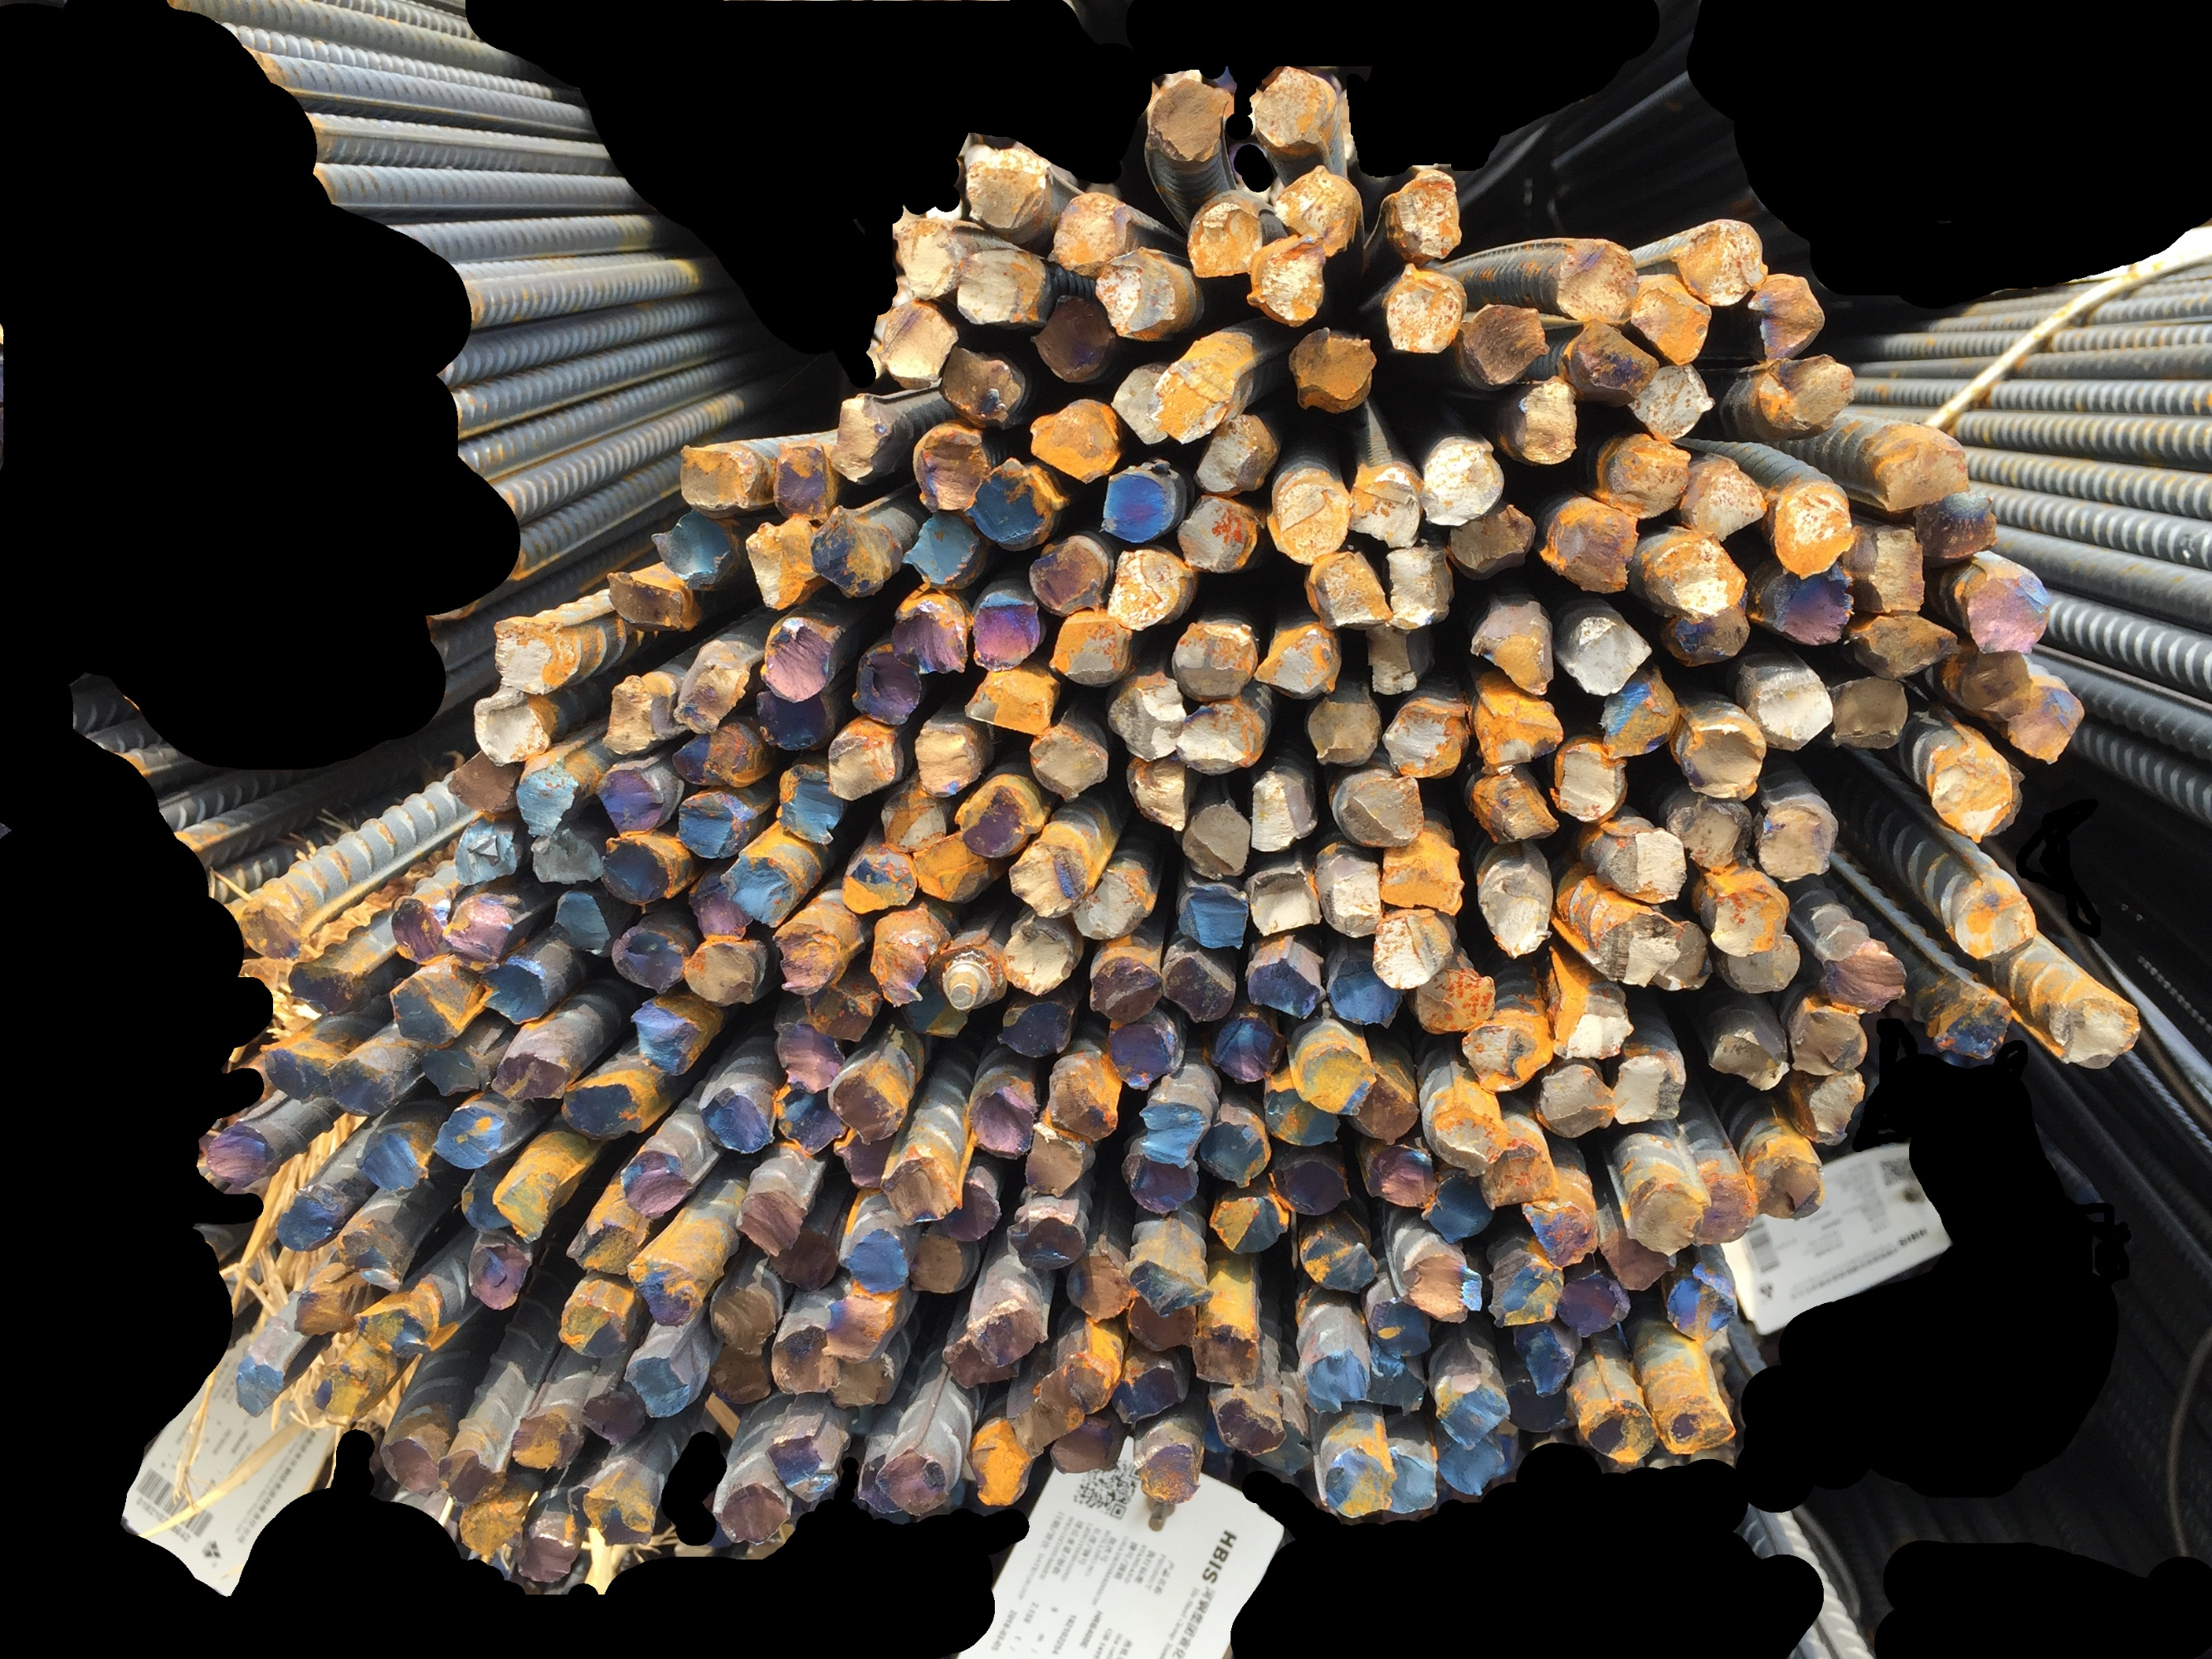rebar: (1747, 558, 1851, 652), (1942, 871, 2041, 967), (1910, 983, 2017, 1072), (1027, 396, 1123, 491), (2046, 981, 2142, 1077), (966, 458, 1063, 552), (1096, 246, 1189, 345), (1544, 230, 1640, 324), (1274, 162, 1367, 260), (1865, 429, 1971, 512), (1544, 498, 1640, 591), (1469, 599, 1560, 697), (1668, 214, 1768, 303), (1591, 432, 1693, 519), (1930, 741, 2013, 845), (1649, 533, 1747, 620), (1595, 662, 1680, 762), (1773, 477, 1855, 580), (1677, 713, 1769, 803), (1961, 561, 2052, 653), (952, 246, 1051, 329), (1379, 692, 1471, 781), (1469, 678, 1562, 767), (811, 502, 898, 596), (1560, 610, 1656, 695), (1583, 904, 1680, 988), (1478, 854, 1555, 960), (652, 505, 743, 594), (1741, 662, 1832, 751), (1288, 329, 1381, 416), (959, 145, 1053, 230), (1102, 669, 1187, 763), (1269, 464, 1349, 563), (1750, 352, 1849, 432), (673, 638, 755, 734), (1034, 293, 1121, 382), (1175, 490, 1264, 577), (1755, 795, 1841, 885), (1384, 166, 1464, 261), (912, 418, 990, 516), (1255, 64, 1339, 155), (1377, 835, 1469, 917), (1445, 502, 1537, 584), (1422, 432, 1504, 525), (1382, 263, 1462, 357), (1171, 615, 1259, 701), (1255, 615, 1342, 701), (1004, 829, 1089, 917), (1150, 75, 1234, 164), (1189, 415, 1278, 498), (1103, 544, 1192, 627), (1851, 610, 1958, 680), (1748, 268, 1829, 361), (1330, 772, 1426, 849), (941, 347, 1028, 430), (758, 619, 847, 701), (1044, 192, 1133, 274), (1632, 274, 1712, 364), (1248, 234, 1327, 326), (1661, 793, 1754, 871), (1290, 1030, 1375, 1114), (1396, 1244, 1480, 1330), (1462, 301, 1548, 385), (1023, 532, 1110, 613), (1602, 824, 1689, 906), (1626, 361, 1713, 443), (1147, 359, 1236, 439), (870, 908, 941, 1007), (962, 666, 1062, 737), (1046, 610, 1138, 687), (1942, 643, 2034, 720), (1349, 451, 1422, 547), (1623, 1173, 1708, 1255), (1550, 981, 1635, 1063), (1708, 878, 1795, 958), (880, 300, 959, 389), (675, 443, 765, 519), (1177, 701, 1267, 777), (1459, 1021, 1553, 1094), (1368, 904, 1450, 988), (1318, 1436, 1398, 1521), (490, 615, 577, 694), (1096, 464, 1184, 542), (967, 1408, 1034, 1511), (765, 1424, 847, 1506), (2006, 683, 2088, 765), (819, 1279, 898, 1364), (903, 514, 988, 592), (1551, 739, 1630, 824), (1818, 939, 1905, 1016), (1469, 769, 1560, 842), (1855, 525, 1926, 617), (1827, 671, 1907, 753), (830, 390, 899, 484), (1689, 458, 1768, 542), (1574, 322, 1658, 401), (955, 781, 1041, 857), (847, 641, 924, 727), (892, 592, 969, 678), (1306, 552, 1393, 627), (1907, 495, 2003, 563), (1126, 1251, 1217, 1323), (1246, 765, 1318, 856), (1313, 847, 1384, 938), (748, 514, 818, 606), (1035, 1344, 1116, 1424), (474, 685, 553, 767), (720, 847, 798, 929), (1428, 1096, 1510, 1175), (1245, 945, 1328, 1021), (629, 997, 715, 1072), (1187, 192, 1262, 277), (1328, 945, 1403, 1030), (772, 760, 845, 847), (894, 214, 966, 303), (1407, 962, 1496, 1033), (601, 831, 682, 910), (1208, 1176, 1288, 1255), (1435, 1371, 1513, 1452), (1417, 1168, 1496, 1248), (767, 1014, 849, 1091), (601, 673, 678, 755), (1537, 1058, 1614, 1140), (1708, 1016, 1790, 1093), (514, 753, 589, 836), (1027, 723, 1110, 798), (879, 1152, 964, 1225), (387, 974, 472, 1047), (669, 727, 769, 789), (556, 1281, 633, 1361), (830, 1063, 906, 1143), (931, 934, 1008, 1014), (1520, 1195, 1600, 1272), (1612, 1047, 1689, 1127), (683, 936, 767, 1009), (1072, 868, 1156, 941), (1511, 376, 1581, 464), (1110, 362, 1178, 451), (1107, 1012, 1185, 1089), (734, 1182, 809, 1262), (1299, 1225, 1379, 1300), (492, 1168, 573, 1241), (695, 1084, 777, 1157), (913, 833, 995, 906), (1198, 1107, 1271, 1188), (1788, 1004, 1870, 1077), (1386, 545, 1457, 629), (969, 1077, 1039, 1162), (352, 1297, 441, 1363), (622, 1255, 699, 1331), (713, 1469, 790, 1546), (770, 918, 847, 995), (1245, 863, 1321, 939), (804, 967, 882, 1042), (1001, 917, 1079, 992), (1161, 948, 1236, 1026), (1262, 1073, 1340, 1148), (596, 756, 669, 836), (675, 784, 755, 857), (1302, 692, 1382, 765), (206, 1119, 289, 1188), (973, 587, 1042, 671), (607, 566, 692, 634), (1663, 601, 1748, 669), (837, 1218, 912, 1295), (1086, 946, 1163, 1021), (1048, 1065, 1124, 1140), (560, 1079, 654, 1140), (1175, 875, 1248, 953), (1555, 1267, 1633, 1340), (1182, 800, 1252, 882), (967, 1297, 1051, 1364), (1799, 1066, 1867, 1150), (462, 1236, 537, 1310), (772, 1079, 847, 1154), (1023, 1122, 1098, 1197), (1124, 1141, 1199, 1216), (1490, 1256, 1565, 1331), (617, 1145, 694, 1218), (1353, 1070, 1426, 1147), (763, 1222, 842, 1293), (1665, 1270, 1745, 1340), (770, 437, 838, 519), (1478, 1140, 1560, 1208), (1658, 1389, 1741, 1455), (1267, 1154, 1353, 1218), (610, 918, 685, 992), (1114, 1354, 1189, 1427), (1295, 1340, 1368, 1415), (336, 1225, 415, 1295), (830, 721, 899, 800), (444, 892, 525, 960), (429, 1103, 511, 1169), (1647, 913, 1712, 997), (769, 1324, 842, 1398), (1363, 1288, 1436, 1361), (1131, 1439, 1206, 1511), (274, 1180, 350, 1249), (913, 718, 983, 795), (1140, 1091, 1210, 1168), (1213, 1009, 1283, 1086), (1754, 1143, 1823, 1220), (509, 1410, 587, 1478), (1008, 1201, 1086, 1269), (350, 1126, 431, 1192), (622, 1349, 695, 1420), (879, 1445, 952, 1516), (1192, 1319, 1264, 1392), (708, 1279, 777, 1354), (685, 870, 755, 945), (1361, 1140, 1438, 1208), (1361, 620, 1429, 697), (1123, 751, 1189, 829), (751, 687, 831, 751), (934, 1331, 1021, 1391), (1720, 932, 1802, 995), (1211, 1387, 1283, 1459), (1051, 1410, 1124, 1480), (879, 781, 948, 854), (444, 749, 521, 816), (1006, 1396, 1086, 1459), (284, 960, 377, 1014), (450, 814, 519, 885), (1583, 1396, 1658, 1462), (821, 1347, 899, 1410), (490, 1040, 568, 1103), (479, 964, 560, 1025), (580, 1380, 648, 1452), (1698, 1168, 1757, 1249), (261, 1042, 336, 1107), (565, 1215, 640, 1279), (390, 892, 455, 967), (840, 847, 915, 911), (1067, 1249, 1131, 1324), (1602, 1229, 1677, 1293), (237, 892, 305, 962), (1363, 1347, 1433, 1415), (457, 1483, 523, 1554), (312, 1363, 385, 1427), (999, 995, 1072, 1060), (1435, 1434, 1508, 1499), (580, 1488, 655, 1551), (324, 1058, 401, 1119), (514, 1513, 582, 1581), (831, 1122, 899, 1190), (378, 1432, 444, 1502), (547, 890, 614, 960), (899, 974, 969, 1040), (1126, 1293, 1196, 1359), (1499, 1375, 1574, 1436), (1520, 1326, 1581, 1398), (528, 829, 603, 887), (418, 1040, 495, 1096), (940, 1176, 1002, 1244), (436, 1445, 507, 1504), (1386, 1441, 1440, 1518), (455, 1166, 518, 1230), (708, 1344, 769, 1410), (1255, 1410, 1311, 1481), (291, 1277, 357, 1337), (910, 1229, 969, 1295), (858, 1446, 910, 1518), (232, 1351, 288, 1417), (563, 1476, 598, 1539)
